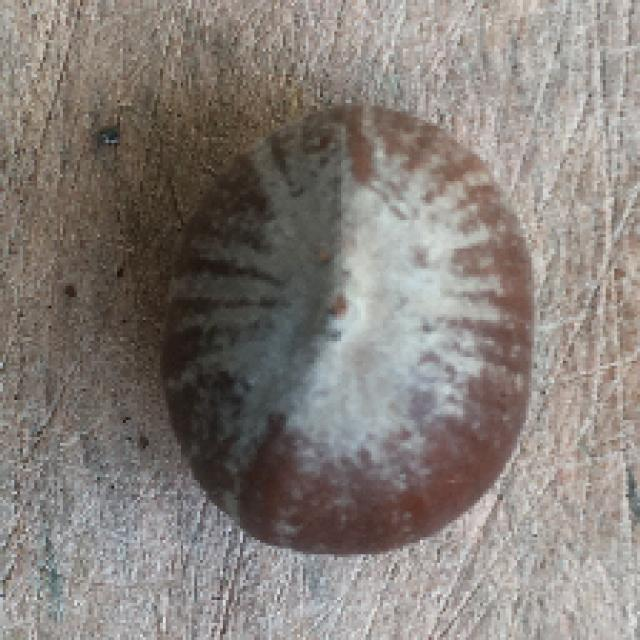qualityHazelnut: (159, 100, 537, 562)
